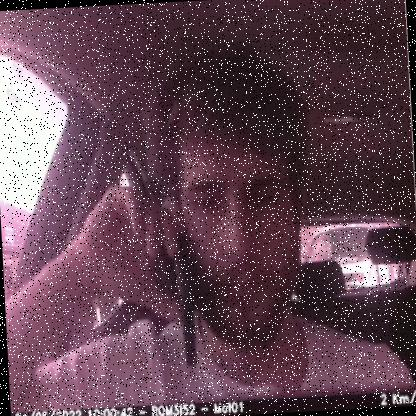phone: (157, 198, 202, 375)
